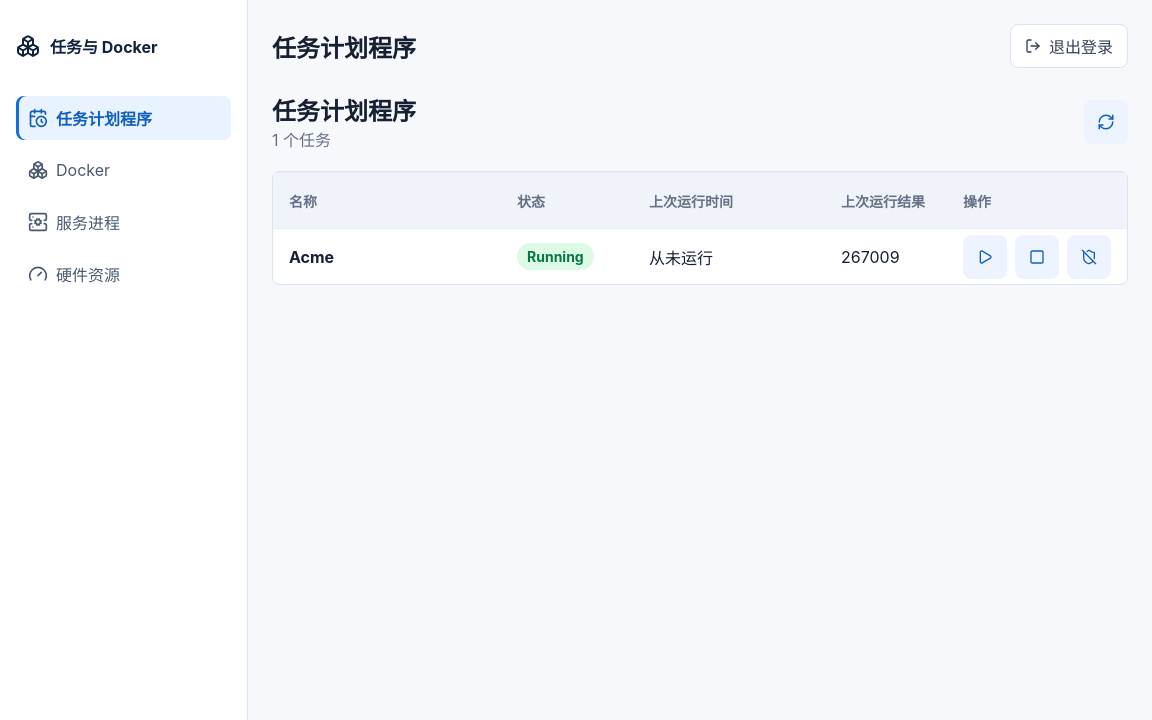
Test case: 前端应用 › 危险操作使用自定义确认框
Click the button named "结束任务 Acme": {"x": 1037, "y": 256} [1015,234,1059,278]
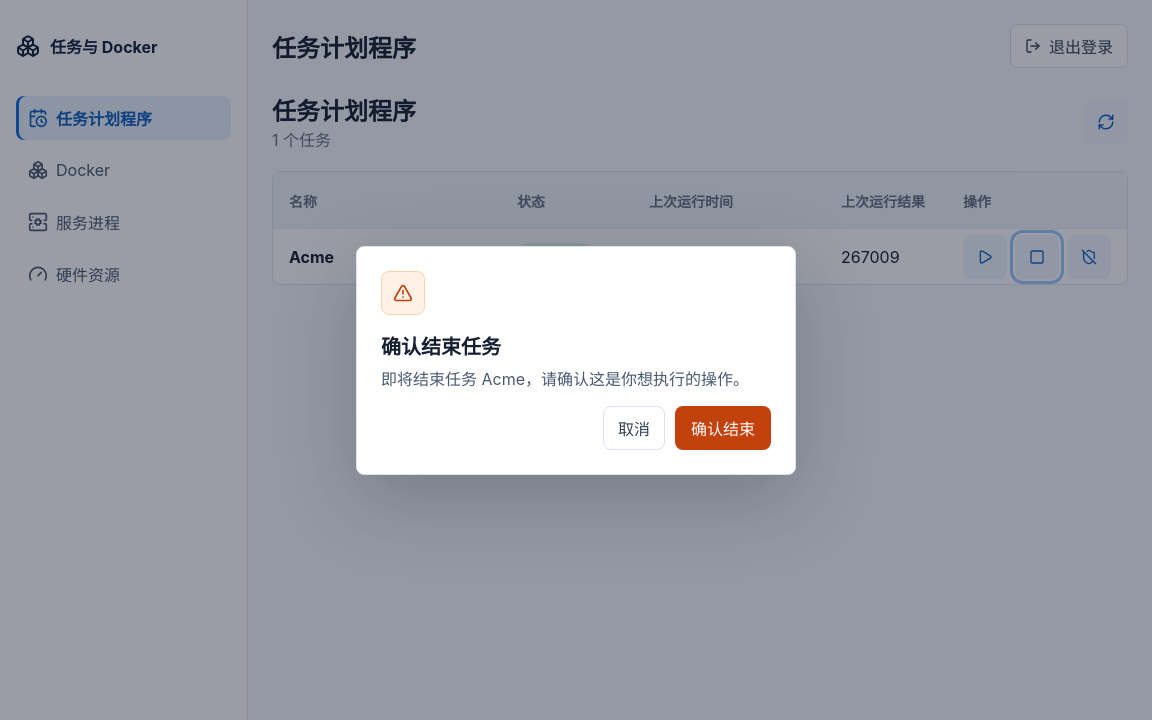
Check: the dialog "确认结束任务" is shown, box [356,246,796,474]
Click the button "取消": {"x": 634, "y": 428} [603,406,665,450]
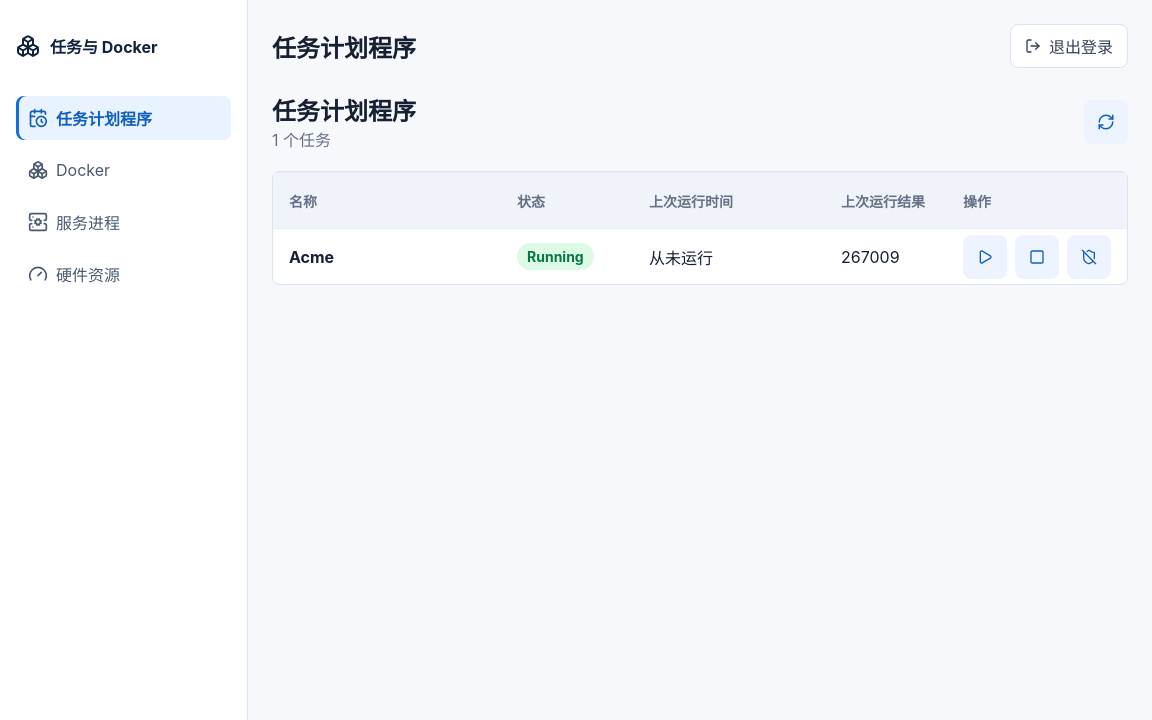
Check: the heading "确认结束任务" is gone
